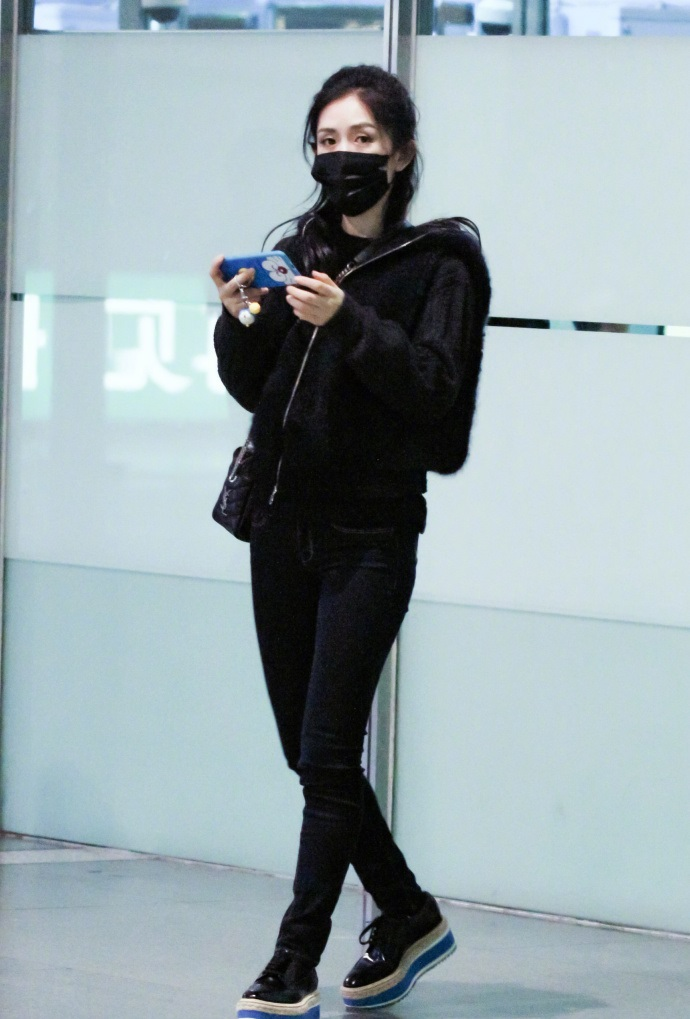face_mask: (316, 94, 390, 216)
